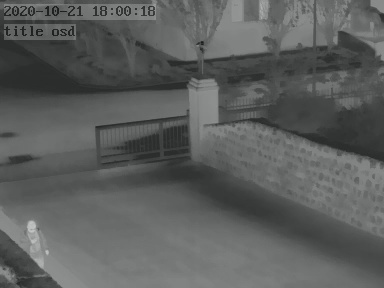person: (24, 220, 51, 275)
